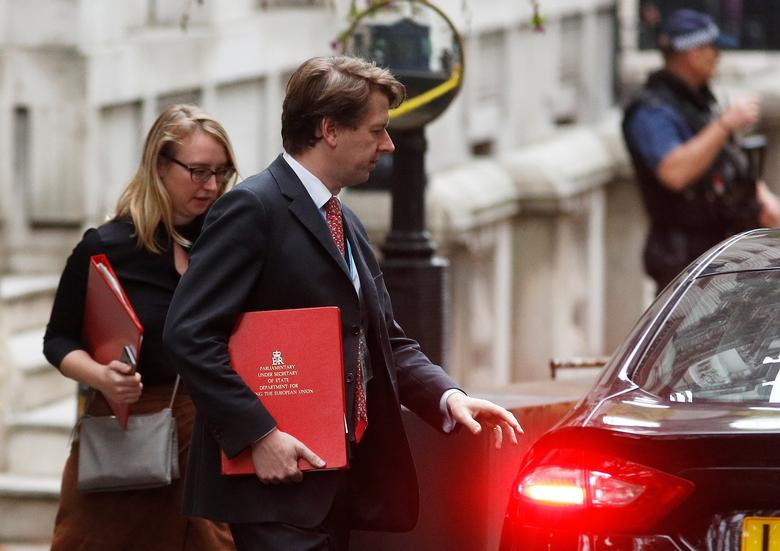red folder: (190, 302, 356, 476), (84, 247, 156, 436)
